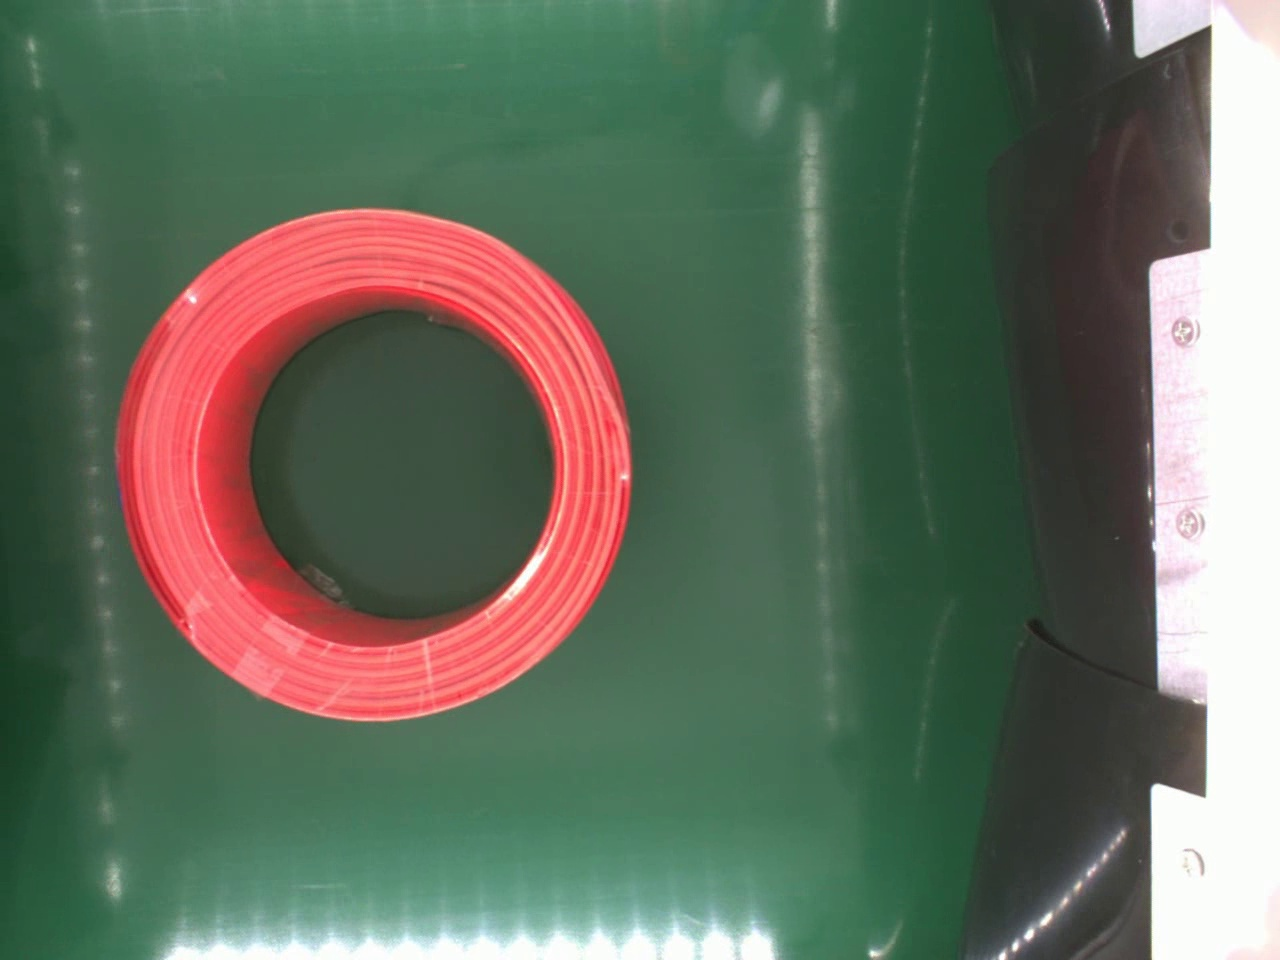red: (107, 207, 640, 728)
